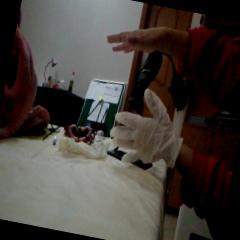gloved: (104, 84, 190, 176)
not-gloved: (103, 16, 183, 68)
